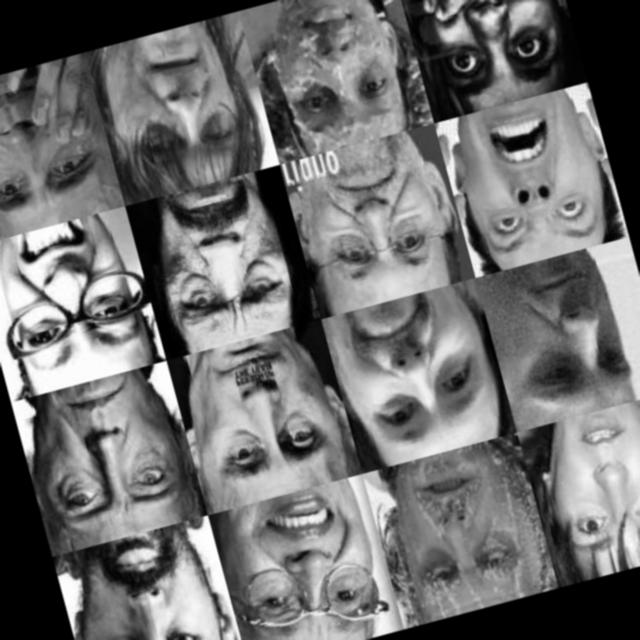angry: (444, 90, 624, 268), (140, 177, 312, 350), (0, 213, 162, 394), (28, 372, 192, 538), (61, 523, 238, 640)
fear: (404, 0, 574, 109)
happy: (216, 480, 394, 640)
neutral: (326, 282, 508, 470), (174, 324, 353, 505), (288, 132, 468, 310), (374, 448, 552, 616), (248, 0, 430, 156), (526, 400, 640, 575)
sad: (98, 22, 277, 202), (490, 252, 640, 423), (0, 67, 113, 233)
